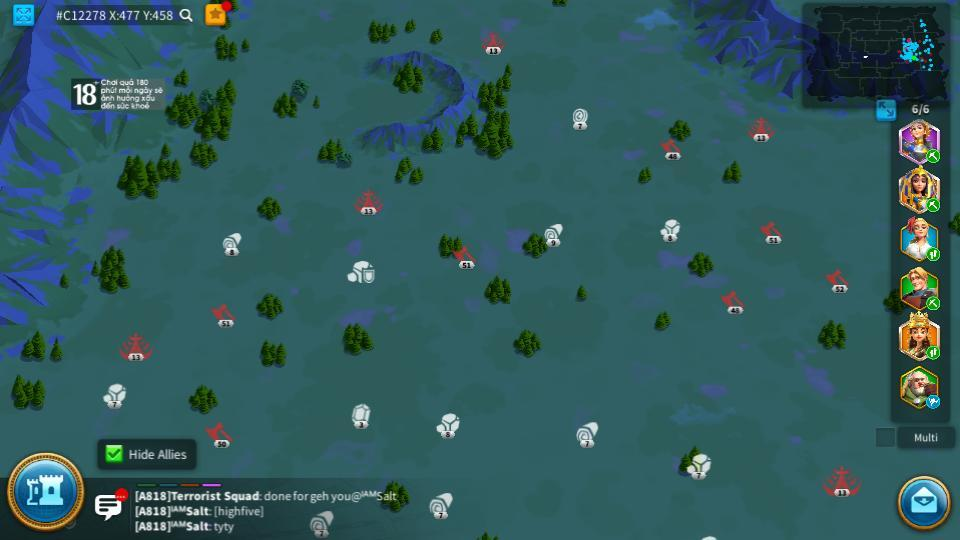gem-z-out: (349, 404, 371, 427), (699, 536, 719, 539)
march_idle: (925, 396, 942, 408)
march_marching: (925, 197, 941, 212), (925, 150, 942, 162), (925, 347, 941, 359), (925, 297, 942, 308), (925, 250, 941, 261)
